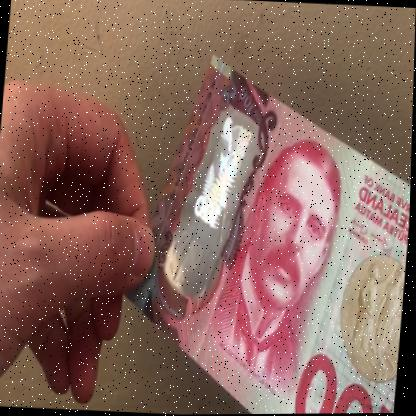100F: (169, 111, 254, 284)
